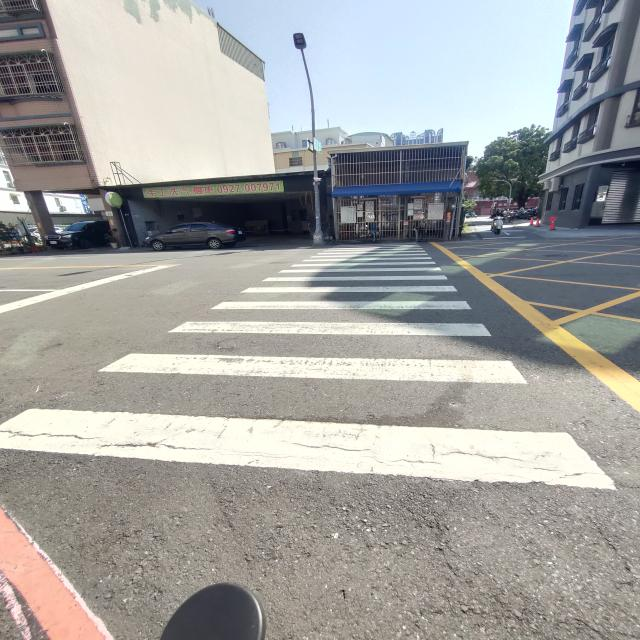zebra_crossing: (259, 123, 584, 366)
